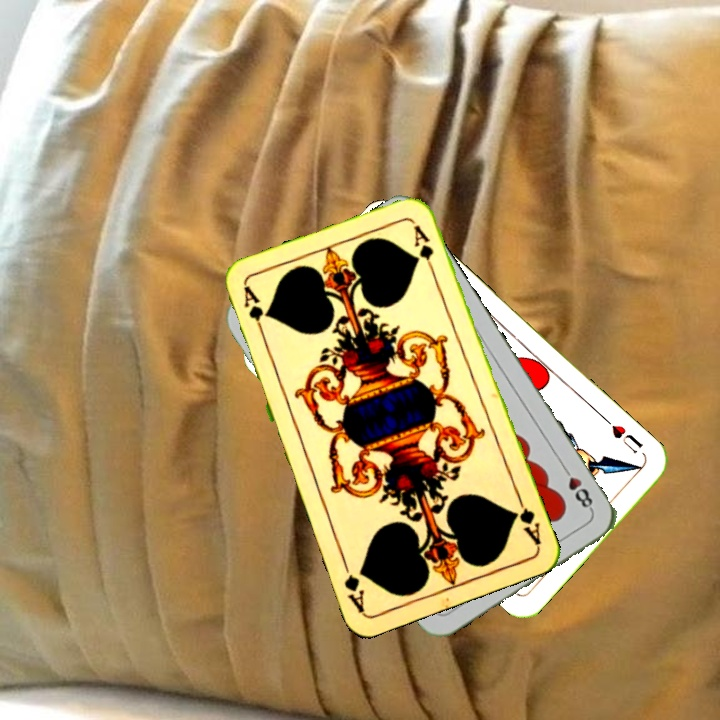GA: (509, 491, 544, 548), (239, 282, 267, 340)
H8: (558, 461, 596, 514)
HU: (607, 420, 646, 457)
